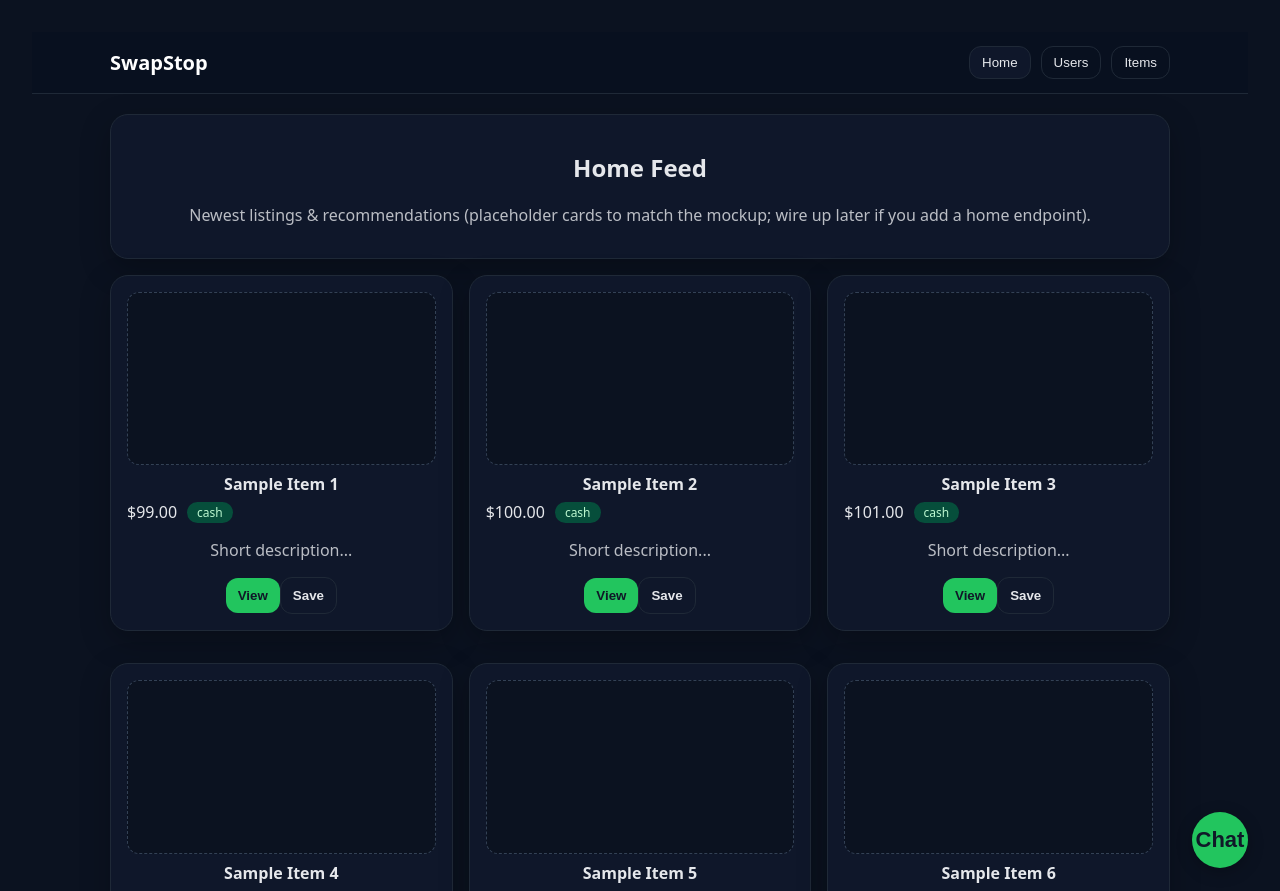
Items tab basic behavior › renders items from API in the grid
Click the button "Items" at (1141, 62), box [1111,46,1170,79]
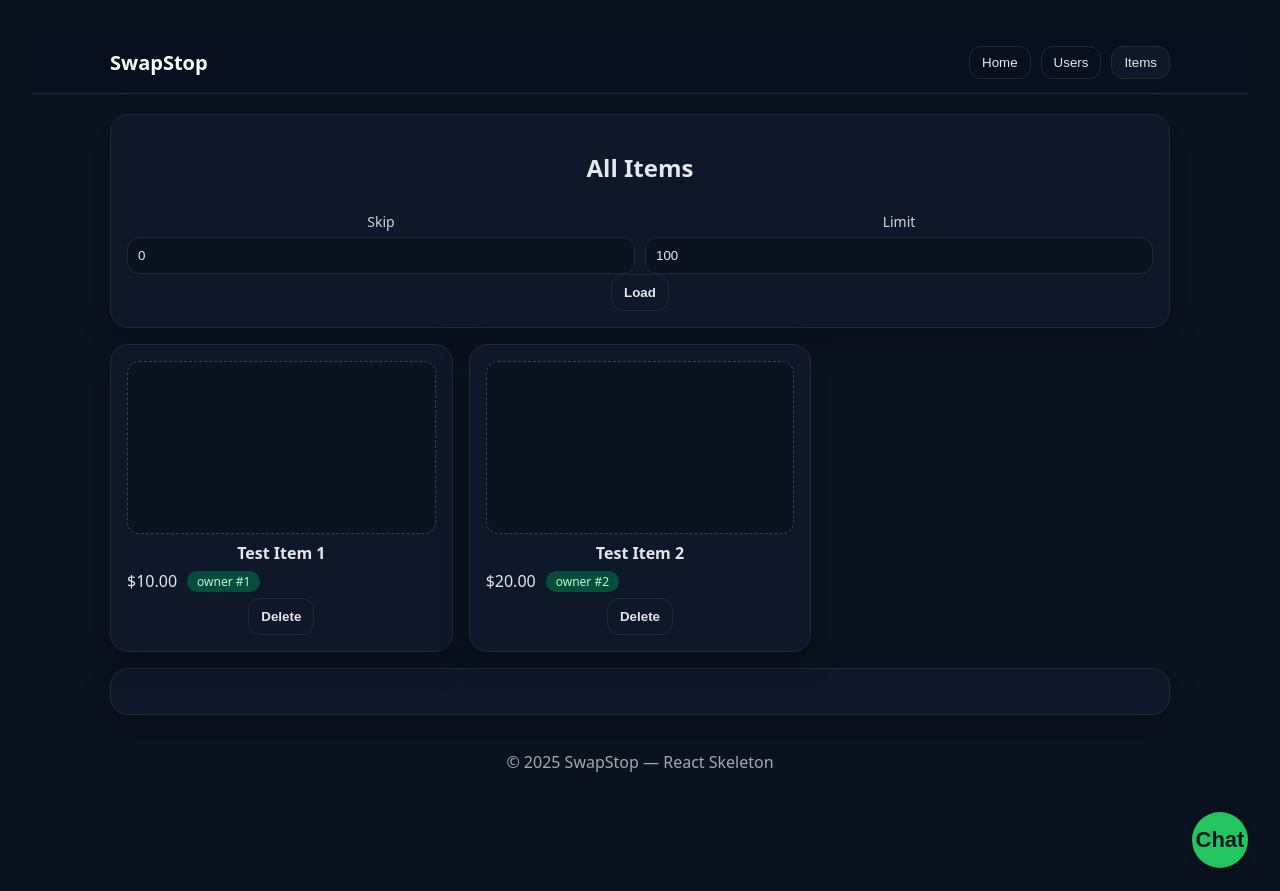
Check: the heading "All Items" is shown, box [587,151,694,184]
Check: the text "Test Item 1" is shown, box [237,542,326,564]
Check: the text "Test Item 2" is shown, box [596,542,684,564]
